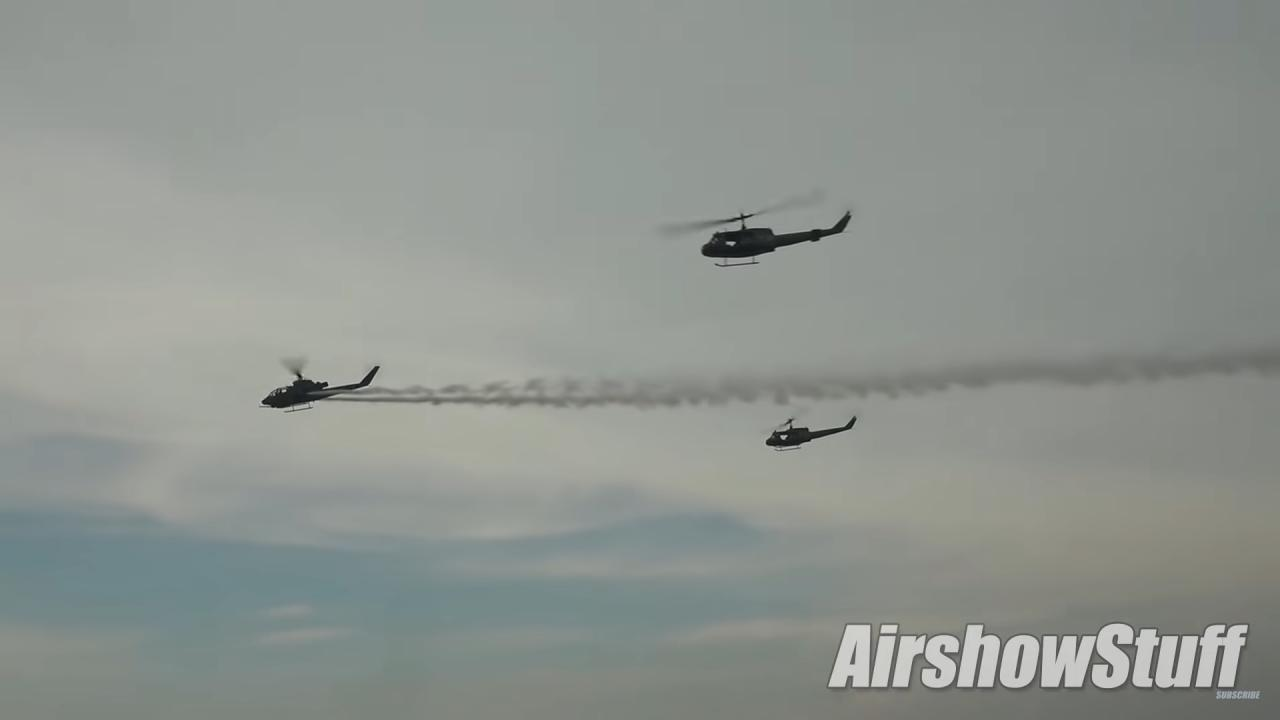Helicopter: (647, 178, 870, 273), (254, 336, 390, 420), (756, 403, 867, 458)
